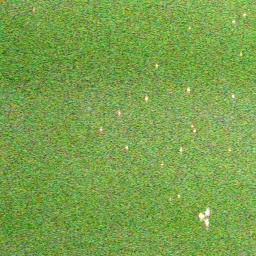Ship: (202, 203, 215, 216), (175, 142, 185, 157), (141, 93, 151, 104), (151, 59, 161, 70), (197, 209, 204, 223), (201, 219, 213, 227), (176, 190, 183, 202), (225, 145, 235, 153), (185, 22, 193, 32), (186, 83, 191, 97), (115, 108, 123, 116), (237, 50, 244, 59), (241, 10, 248, 19), (97, 126, 104, 134), (229, 93, 237, 100), (188, 122, 195, 130), (191, 128, 199, 134), (123, 143, 129, 150), (30, 6, 36, 13), (167, 194, 171, 204), (230, 17, 237, 22), (159, 162, 164, 167)
